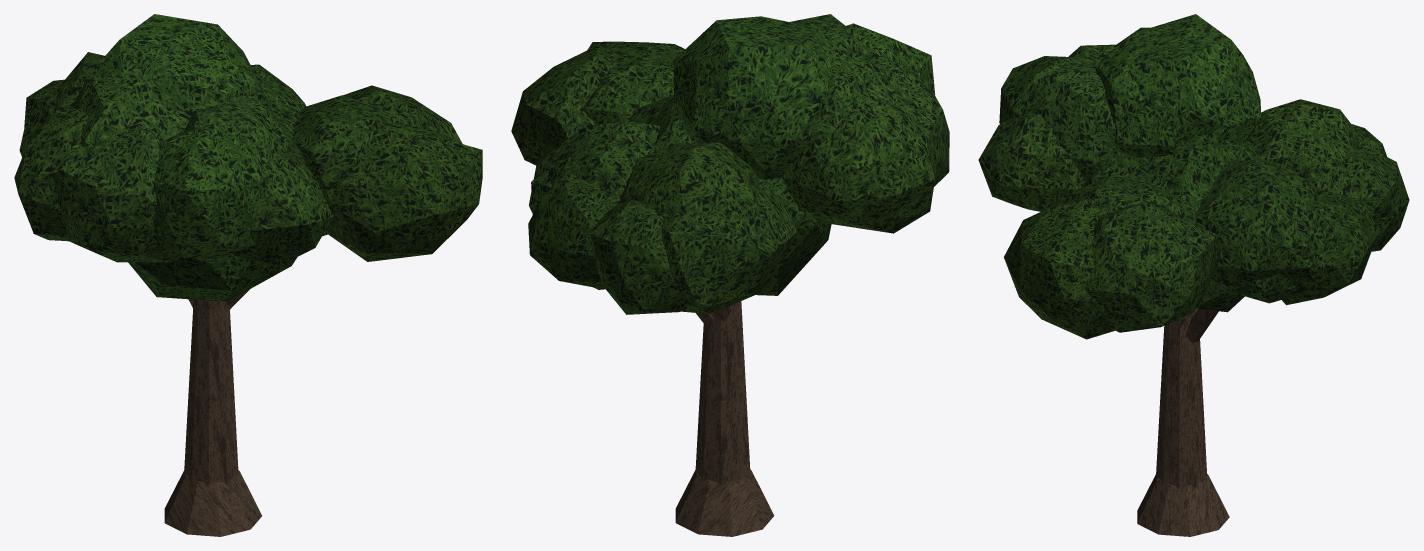
File: tree_leafy_c.glb
3 renders of one model, left to right at view 1: azimuth 30°, elevation 25°; view 2: azimuth 150°, elevation 25°; view 3: azimuth 270°, elevation 25°, orthographic. The views are drawn at different scales.
Visible parts, largest first — view 1: tree_leafy_c; view 2: tree_leafy_c; view 3: tree_leafy_c.
Part boxes in pixels (x1,y1,x2,y2): tree_leafy_c: (14, 14, 482, 536); tree_leafy_c: (511, 14, 949, 536); tree_leafy_c: (978, 14, 1409, 536).
Bounding box in the file's own units: 4.82 × 5.42 × 4.57.
Materials: 2 (2 with a texture image).
